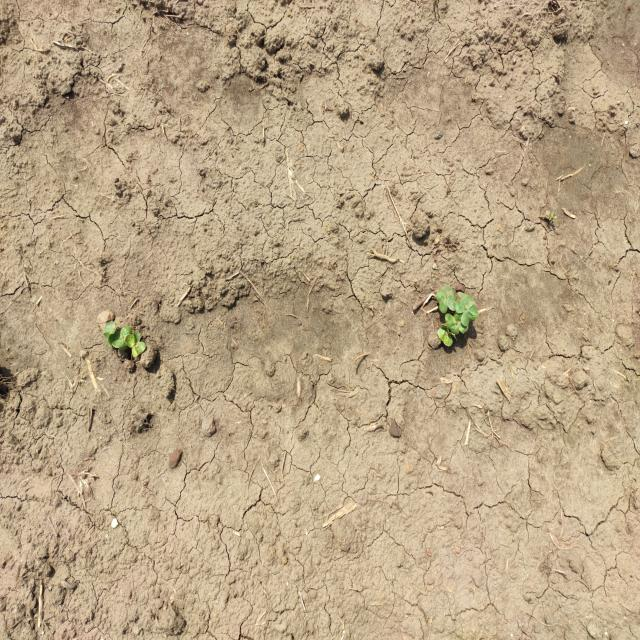seedling: (461, 305, 479, 327), (103, 321, 115, 348), (454, 313, 469, 334), (119, 326, 132, 350), (444, 285, 456, 311), (455, 297, 474, 313), (437, 328, 453, 347), (436, 289, 448, 313), (446, 312, 459, 334), (111, 324, 122, 347), (126, 331, 140, 348), (132, 341, 146, 358)
